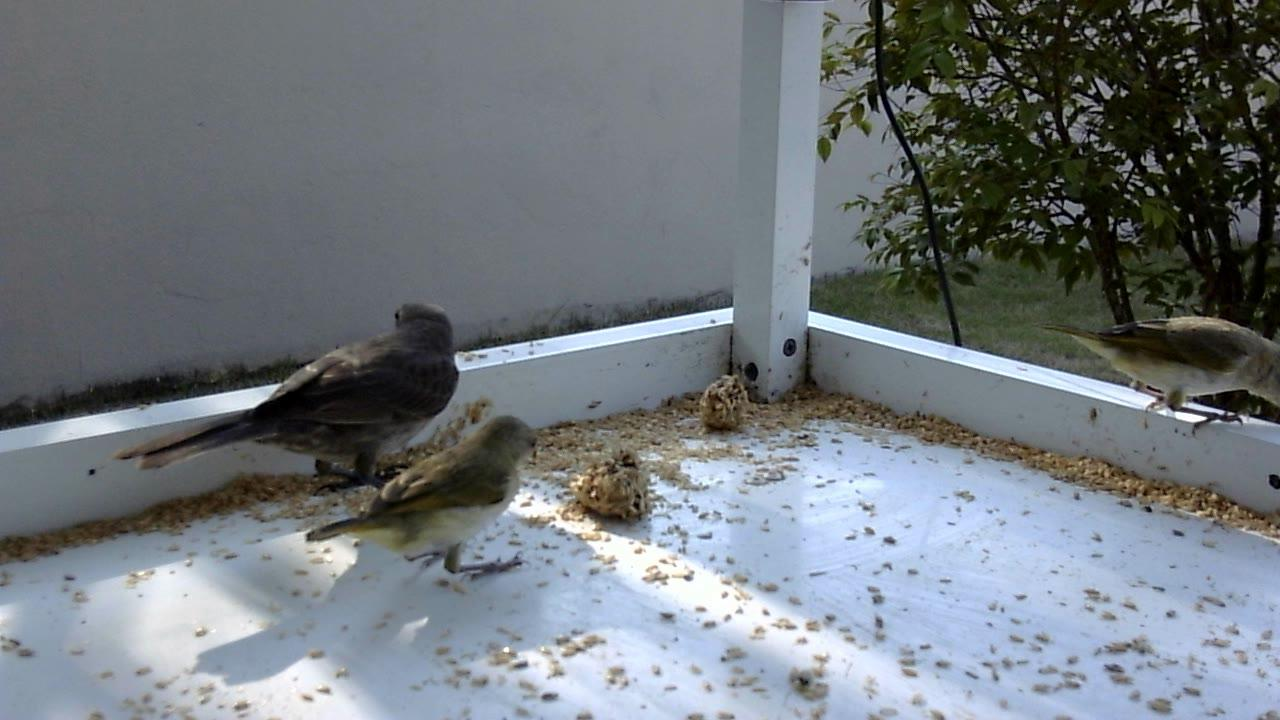canario_do_amazonas: (301, 414, 544, 587), (1030, 312, 1280, 441)
chupim: (107, 296, 464, 498)
